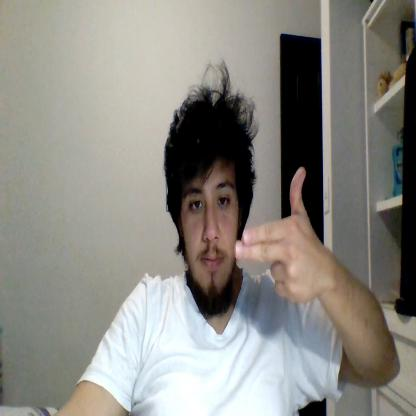H: (234, 167, 321, 304)
